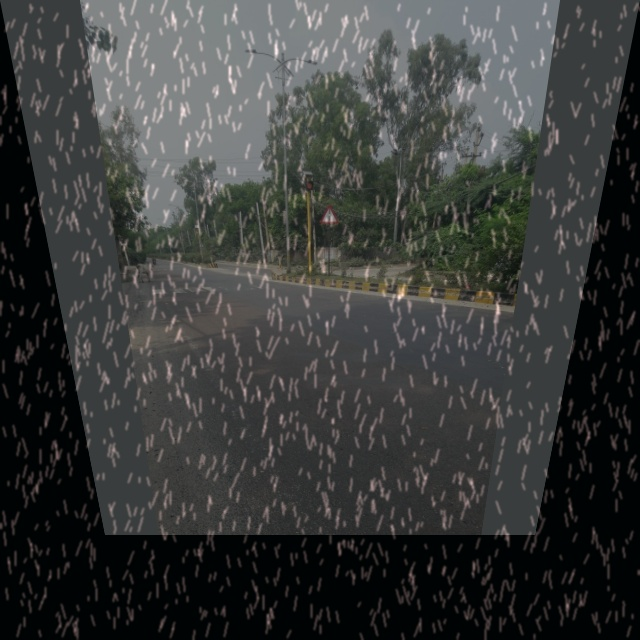Gap_in_Median: (319, 201, 340, 226)
